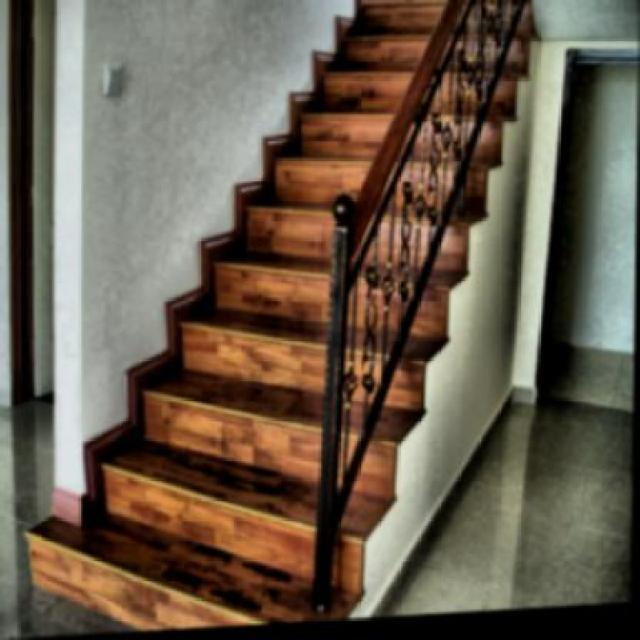stair: (19, 0, 488, 634)
